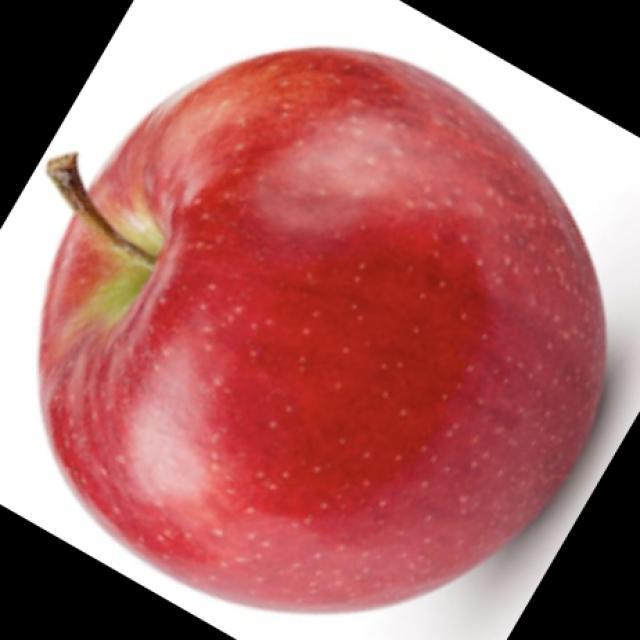Fresh Apple: (57, 54, 618, 604)
